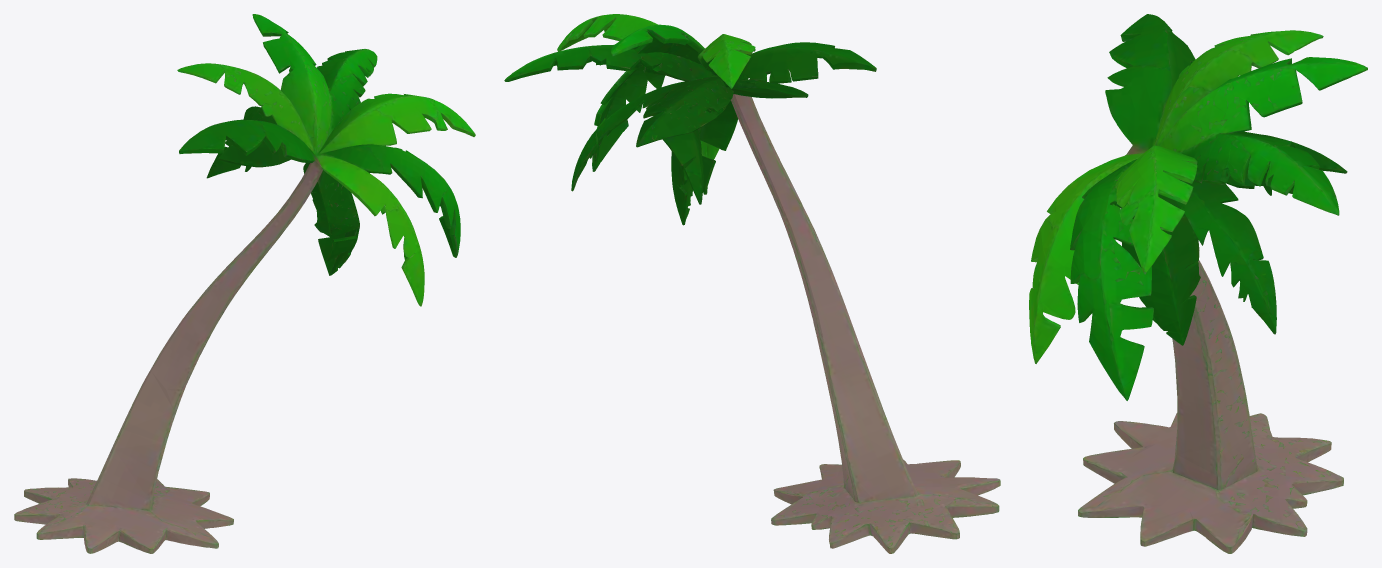
Rendered from palm-bend.glb.
3 renders of one model, left to right at view 1: azimuth 30°, elevation 25°; view 2: azimuth 150°, elevation 25°; view 3: azimuth 270°, elevation 25°, orthographic. The views are drawn at different scales.
Visible parts, largest first — view 1: geometry_0; view 2: geometry_0; view 3: geometry_0.
Part boxes in pixels (x1,y1,x2,y2): geometry_0: (14, 14, 475, 553); geometry_0: (504, 14, 1000, 553); geometry_0: (1029, 14, 1367, 553).
Bounding box in the file's own units: 1 × 0.9644 × 0.535.
Materials: 1 (1 with a texture image).
